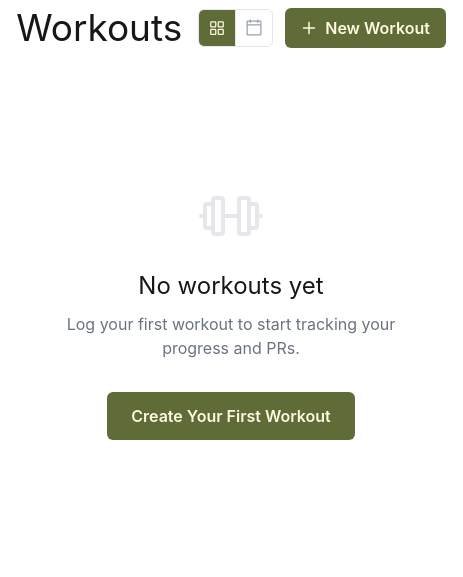
Test: WorkoutsView — calendar view › wraps from January to December when going back
The image size is (463, 577).
Click the button named "Calendar view": coordinates (254, 28) left=235, top=10, right=272, bottom=46
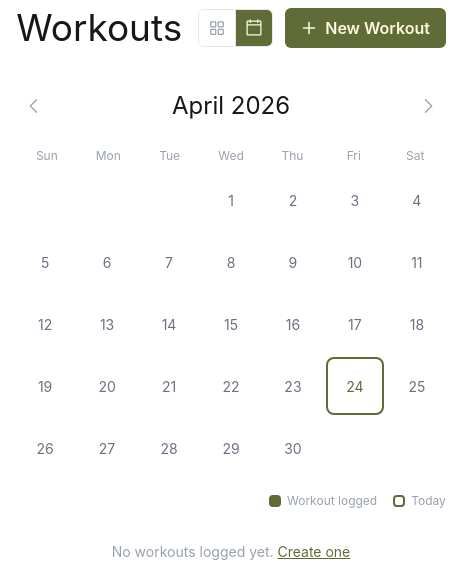
Click the button named "Previous month": coordinates (34, 106) left=16, top=88, right=52, bottom=124
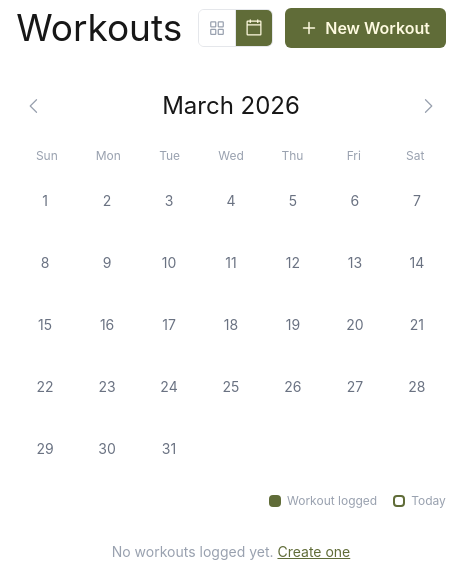
Click the button named "Previous month": coordinates (34, 106) left=16, top=88, right=52, bottom=124
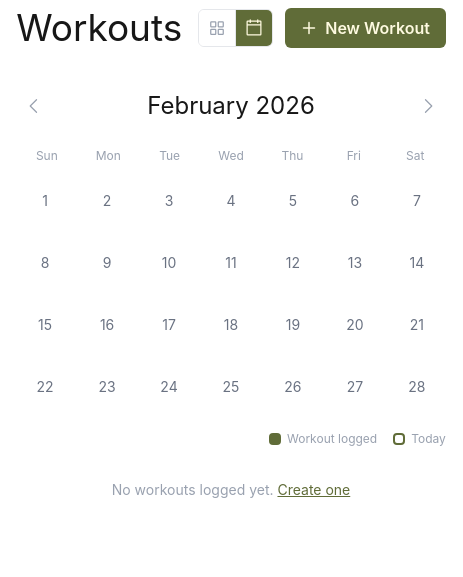
Click the button named "Previous month": coordinates (34, 106) left=16, top=88, right=52, bottom=124
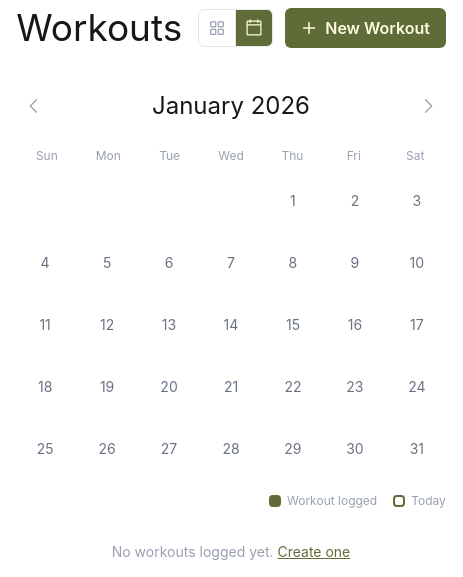
expect the heading "January 2026" is shown: met, box left=152, top=88, right=310, bottom=124
Click the button named "Previous month": coordinates (34, 106) left=16, top=88, right=52, bottom=124
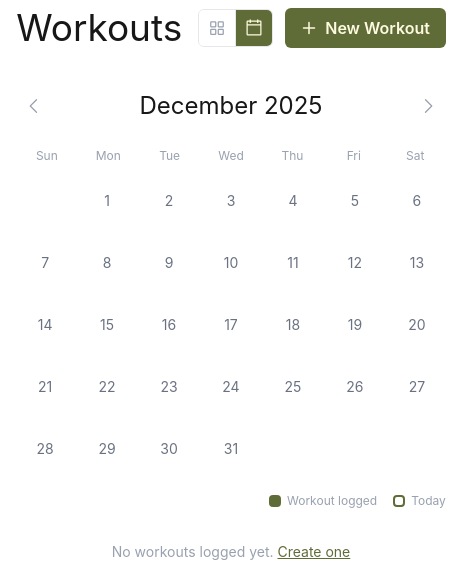
expect the heading "December 2025" is shown: met, box left=139, top=88, right=323, bottom=124
